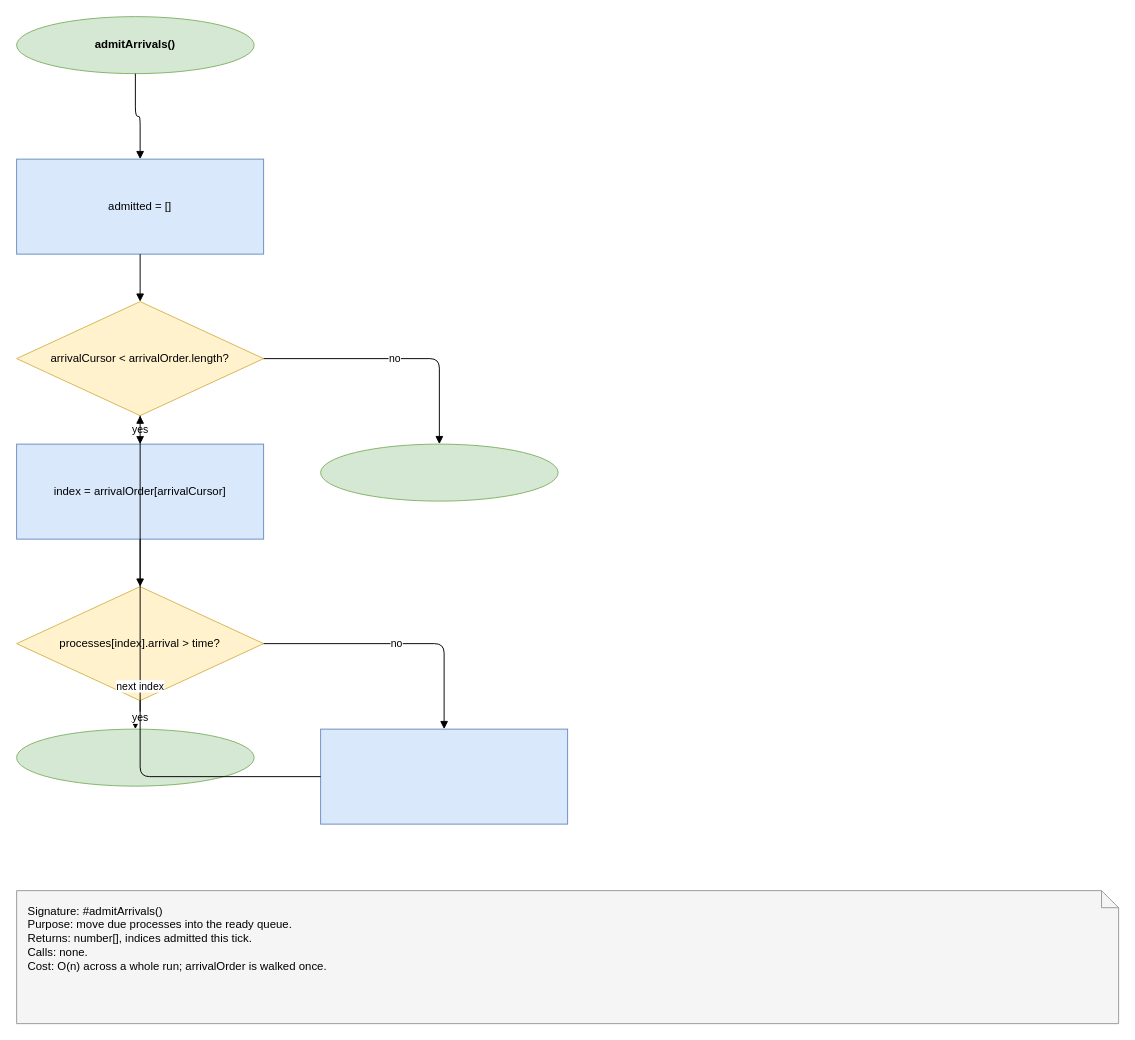
Image size: 1135x1040. Some labels were removed from this diagram. Here are the shapes that lost their labels. From the top down, the centre of each, then its label:
(439,472): return admitted
(135,757): return admitted (sorted: later arrivals are not due)
(444,776): ready.push(index) arrivalCursor += 1 admitted.push(index)
